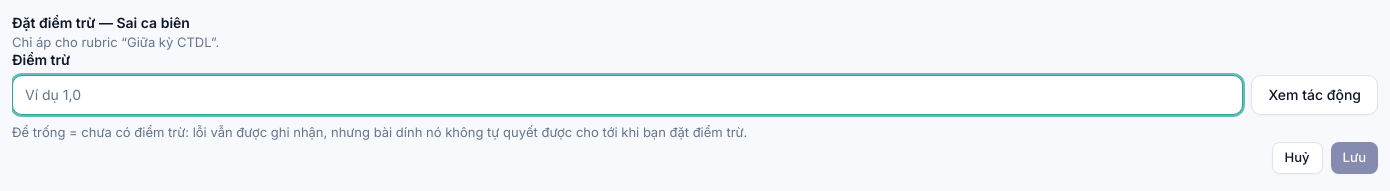
PricePopover (T-RBE-UI-4) › không hợp lệ ("abc") → thông báo cạnh ô, KHÔNG gọi xem trước
Type "abc" into the field labelled "Điểm trừ" at (628, 94), box 12,74 -> 1243,114
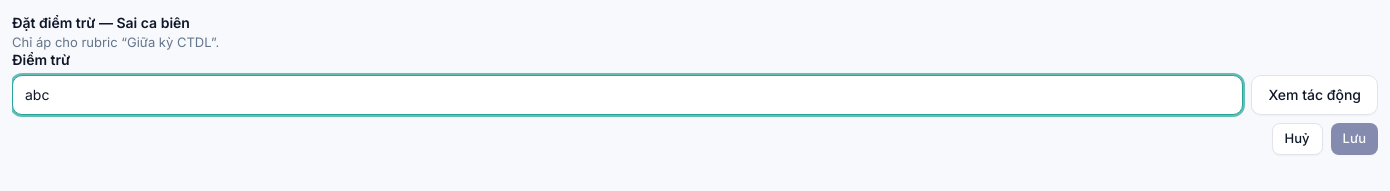
Leave the field labelled "Điểm trừ", box 12,74 -> 1243,114
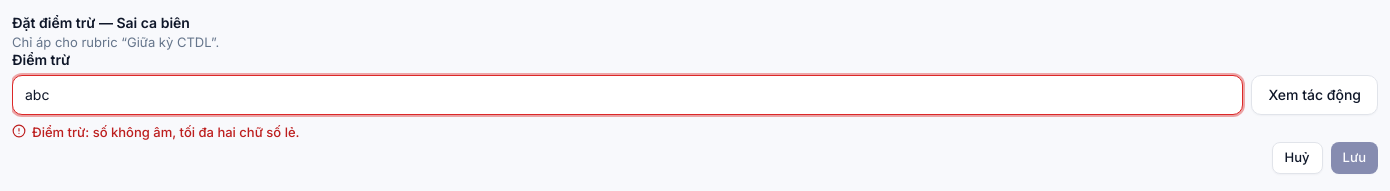
Now the text "Điểm trừ: số không âm, tối đa hai chữ số lẻ." is shown, box 12,124 -> 300,140
